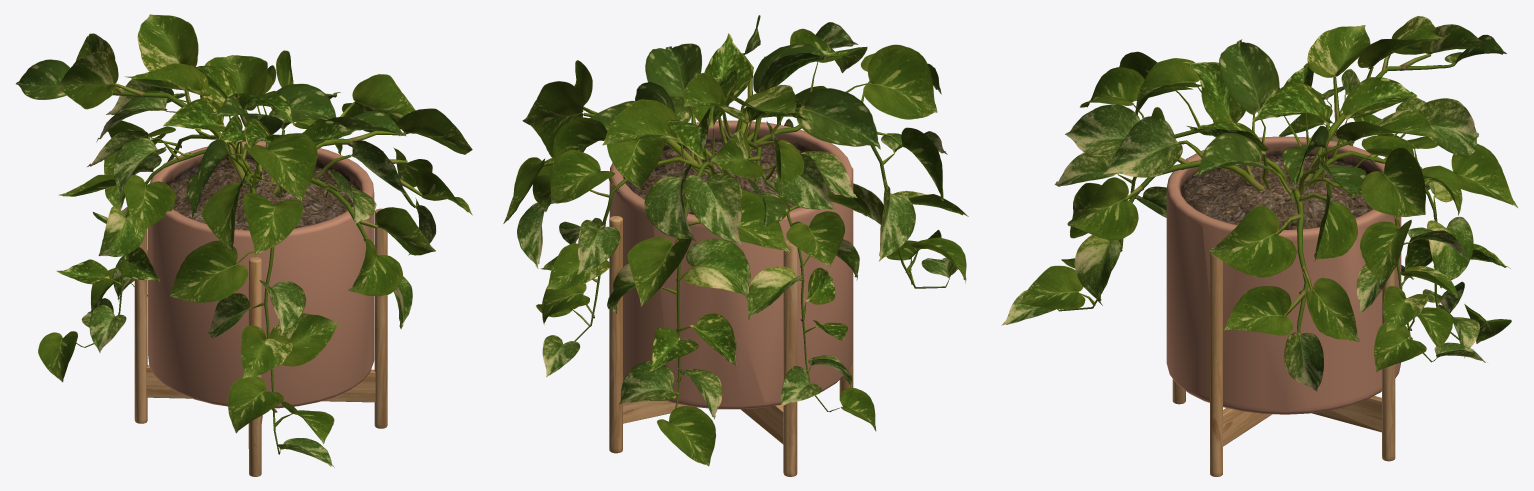
The model's file is plant.glb.
3 views of the same model, side by side, from view 1: azimuth 30°, elevation 25°; view 2: azimuth 150°, elevation 25°; view 3: azimuth 270°, elevation 25° (orthographic). The views are drawn at different scales.
Visible parts, largest first — view 1: POTHOS_POTHOS_Mat_0, POT_WOOD_LEGS_WOODEN_LEGS_POT_0; view 2: POTHOS_POTHOS_Mat_0, POT_WOOD_LEGS_WOODEN_LEGS_POT_0; view 3: POTHOS_POTHOS_Mat_0, POT_WOOD_LEGS_WOODEN_LEGS_POT_0.
Boxes of the visible parts, left/top/right/bottom form: POTHOS_POTHOS_Mat_0: left=16, top=14, right=472, bottom=467; POT_WOOD_LEGS_WOODEN_LEGS_POT_0: left=134, top=141, right=387, bottom=476; POTHOS_POTHOS_Mat_0: left=503, top=15, right=968, bottom=466; POT_WOOD_LEGS_WOODEN_LEGS_POT_0: left=609, top=120, right=853, bottom=476; POTHOS_POTHOS_Mat_0: left=1001, top=16, right=1517, bottom=391; POT_WOOD_LEGS_WOODEN_LEGS_POT_0: left=1166, top=136, right=1401, bottom=476.
Bounding box in the file's own units: 0.8265 × 0.7916 × 0.9741.
Materials: 2 (2 with a texture image).
